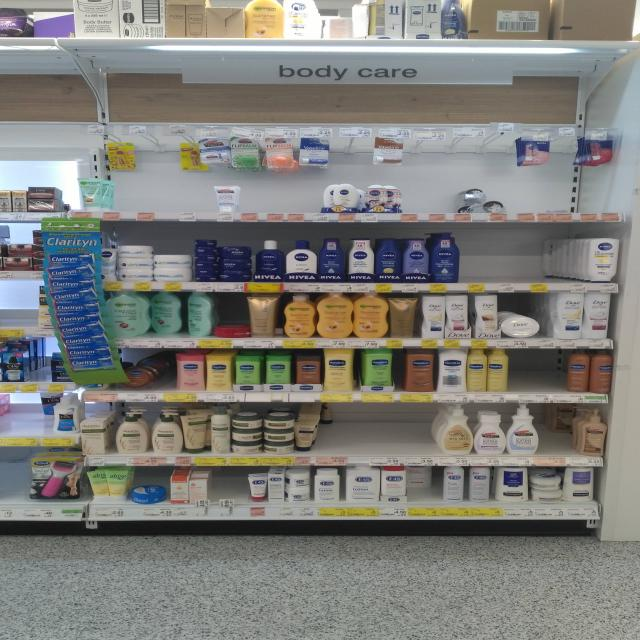void: (348, 404, 436, 457), (469, 230, 556, 282), (514, 178, 618, 213), (115, 179, 206, 213), (516, 350, 567, 396), (404, 178, 463, 214), (246, 182, 318, 211), (546, 405, 574, 456), (213, 468, 244, 504)
